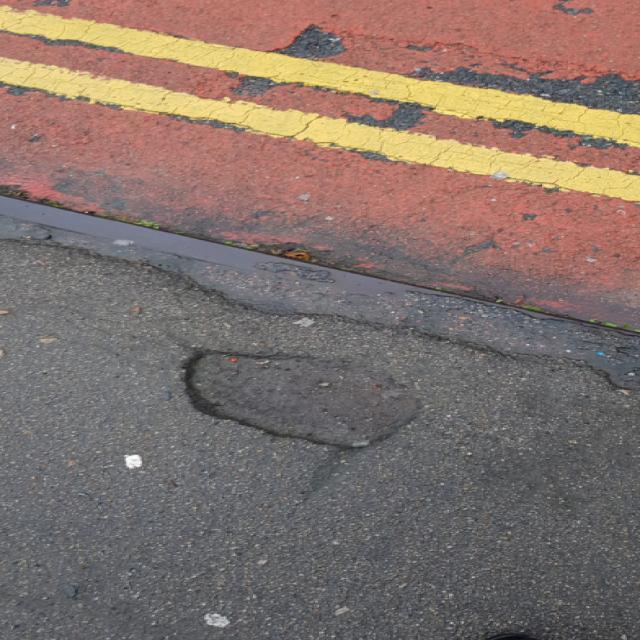pothole: (176, 343, 433, 452)
